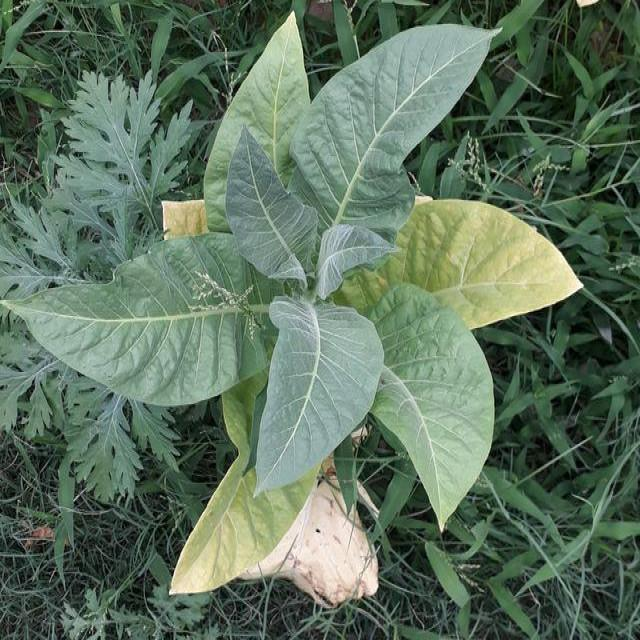crop: (19, 12, 580, 602)
